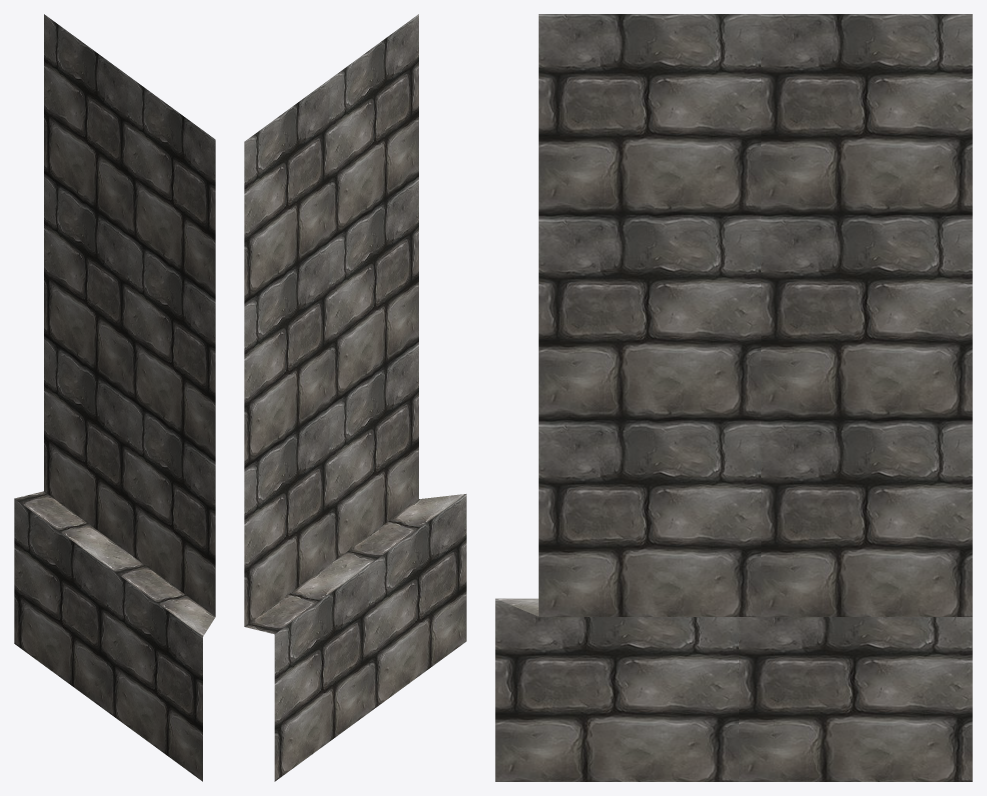
The model's file is Castle Walls Corner Short Right.FBX.
3 views of the same model, side by side, from view 1: azimuth 30°, elevation 25°; view 2: azimuth 150°, elevation 25°; view 3: azimuth 270°, elevation 25° (orthographic). The views are drawn at different scales.
Visible parts, largest first — view 1: Plane003; view 2: Plane003; view 3: Plane003.
Boxes of the visible parts, x1,y1,x2,y2 form: Plane003: [14, 14, 215, 781]; Plane003: [244, 14, 466, 781]; Plane003: [495, 14, 972, 781].
Size of the model in its own units: 0.254 by 5.08 by 2.79.
Materials: 1 (1 with a texture image).
